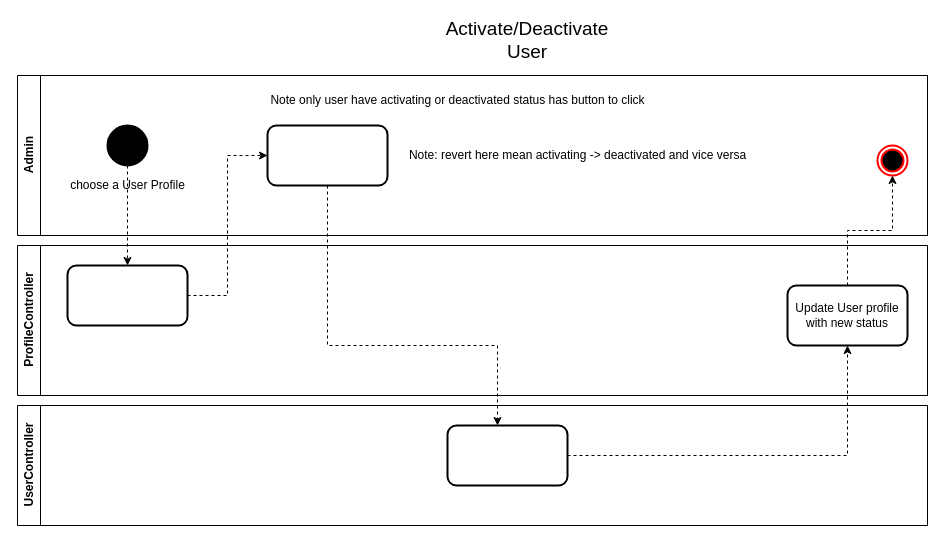
The diagram is 945 pixels wide and 543 high, and some of its shapes have lost their labels. The shapes that lost their labels are listed below. From the top down, each one's centre as x and y in pixels, then its label:
At (327,155): "Click revert User status".
At (127,295): "Display User Profile".
At (507,455): "revert user status".
